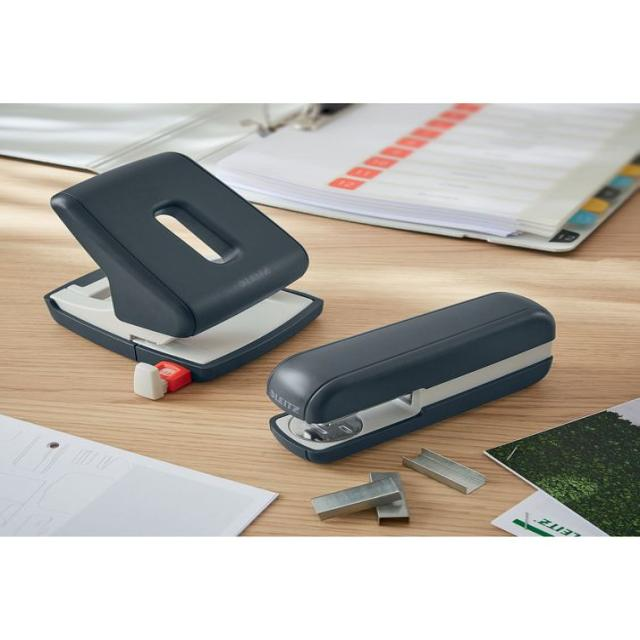Stapler: (259, 275, 588, 471)
